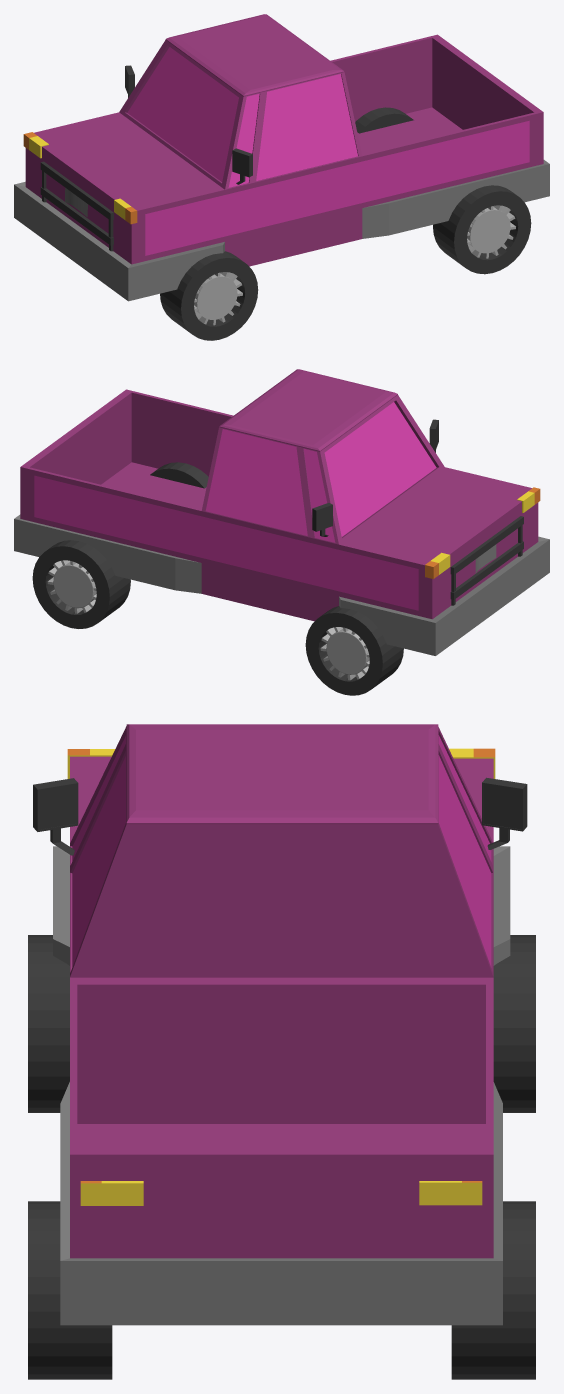
File: Truck Purple.fbx
3 renders of one model, top to bottom at view 1: azimuth 30°, elevation 25°; view 2: azimuth 150°, elevation 25°; view 3: azimuth 270°, elevation 25°, orthographic. The views are drawn at different scales.
Visible parts, largest first — view 1: Truck Body.003, Tire.030, Tire.028, Spoke.030, Spoke.028, Pull Bar.006, Tire.031, Mirror.012, Front Light.020; view 2: Truck Body.003, Tire.031, Tire.029, Spoke.029, Spoke.031, Pull Bar.006, Tire.030, Mirror.013, Light Front.020; view 3: Truck Body.003, Tire.030, Tire.031, Tire.029, Tire.028, Mirror.012, Mirror.013, Front Light.021, Light Front.021.
Part boxes in pixels (x1,y1,x2,y2): Truck Body.003: (14, 14, 549, 301); Tire.030: (433, 185, 531, 274); Tire.028: (160, 251, 258, 340); Spoke.030: (467, 205, 515, 258); Spoke.028: (194, 272, 242, 325); Pull Bar.006: (40, 161, 113, 251); Tire.031: (355, 107, 413, 133); Mirror.012: (232, 148, 252, 184); Front Light.020: (114, 198, 137, 224); Truck Body.003: (14, 369, 549, 655); Tire.031: (32, 540, 130, 628); Tire.029: (305, 606, 403, 695); Spoke.029: (320, 627, 369, 680); Spoke.031: (47, 560, 96, 613); Pull Bar.006: (450, 516, 523, 605); Tire.030: (150, 462, 208, 488); Mirror.013: (312, 503, 332, 536); Light Front.020: (425, 552, 450, 578); Truck Body.003: (53, 724, 510, 1325); Tire.030: (28, 1201, 112, 1379); Tire.031: (451, 1201, 535, 1379); Tire.029: (493, 935, 535, 1112); Tire.028: (28, 935, 69, 1112); Mirror.012: (33, 778, 78, 855); Mirror.013: (482, 777, 527, 849); Front Light.021: (80, 1181, 143, 1205); Light Front.021: (419, 1181, 482, 1205).
Bounding box in the file's own units: 404 × 197 × 210.
